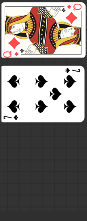7C: (3, 113, 20, 121)
9D: (66, 2, 83, 11)
